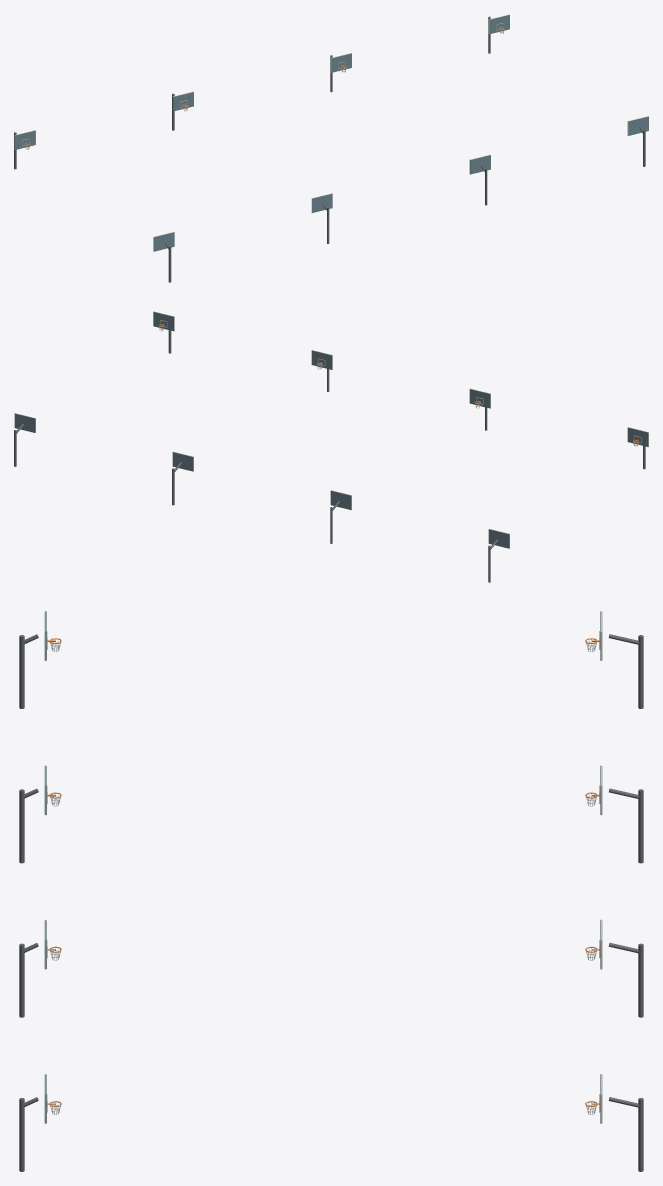
The picture shows the model from 3 angles, top to bottom: view 1: azimuth 30°, elevation 25°; view 2: azimuth 150°, elevation 25°; view 3: azimuth 270°, elevation 25°; orthographic projection. The views are drawn at different scales.
Parts seen in each view (by area): view 1: buildings_s_-3_-6_Recessed_Blue_Glass, buildings_s_-3_-6_Dark_Metal, buildings_s_-3_-6_Warm_Limestone; view 2: buildings_s_-3_-6_Recessed_Blue_Glass, buildings_s_-3_-6_Dark_Metal, buildings_s_-3_-6_Warm_Limestone; view 3: buildings_s_-3_-6_Dark_Metal, buildings_s_-3_-6_Warm_Limestone, buildings_s_-3_-6_Recessed_Blue_Glass.
Part boxes in pixels (x1,y1,x2,y2): buildings_s_-3_-6_Recessed_Blue_Glass: [15, 15, 648, 251]; buildings_s_-3_-6_Dark_Metal: [14, 16, 645, 282]; buildings_s_-3_-6_Warm_Limestone: [14, 14, 648, 251]; buildings_s_-3_-6_Recessed_Blue_Glass: [14, 312, 648, 548]; buildings_s_-3_-6_Dark_Metal: [14, 330, 645, 582]; buildings_s_-3_-6_Warm_Limestone: [14, 311, 648, 548]; buildings_s_-3_-6_Dark_Metal: [19, 634, 643, 1171]; buildings_s_-3_-6_Warm_Limestone: [45, 611, 601, 1123]; buildings_s_-3_-6_Recessed_Blue_Glass: [44, 611, 602, 1123].
Size of the model in its own units: 72.09 by 6.05 by 39.32.
